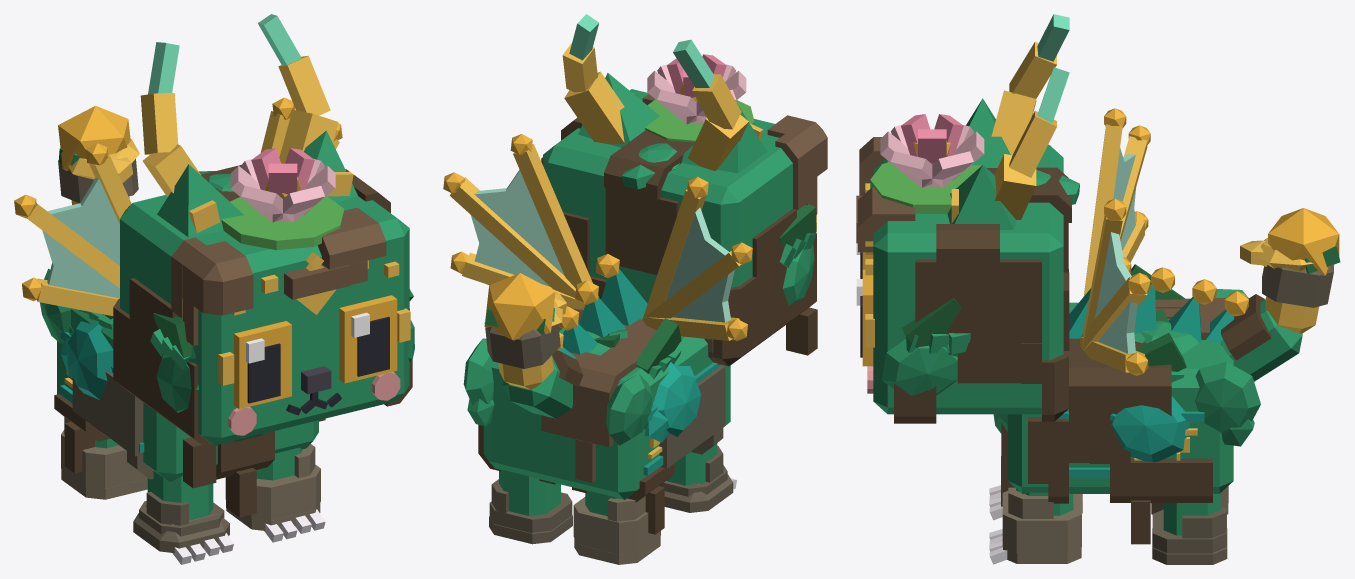
The model's file is CleanACat_Cat_Jade_Dirty.fbx.
The picture shows the model from 3 angles, left to right: view 1: azimuth 30°, elevation 25°; view 2: azimuth 150°, elevation 25°; view 3: azimuth 270°, elevation 25°; orthographic projection. The views are drawn at different scales.
Visible parts, largest first — view 1: CleanACat_Cat_Jade_Dirty_Head, CleanACat_Cat_Jade_Dirty_Prop, CleanACat_Cat_Jade_Dirty_Prop2, CleanACat_Cat_Jade_Dirty_Mud01, CleanACat_Cat_Jade_Dirty_Mud06, CleanACat_Cat_Jade_Dirty_Mud03, CleanACat_Cat_Jade_Dirty_Body, CleanACat_Cat_Jade_Dirty_Eye1, CleanACat_Cat_Jade_Dirty_Eye2, CleanACat_Cat_Jade_Dirty_Mud15, CleanACat_Cat_Jade_Dirty_Mud10, CleanACat_Cat_Jade_Dirty_Mud16 (+17 smaller); view 2: CleanACat_Cat_Jade_Dirty_Prop2, CleanACat_Cat_Jade_Dirty_Head, CleanACat_Cat_Jade_Dirty_Prop, CleanACat_Cat_Jade_Dirty_Body, CleanACat_Cat_Jade_Dirty_Mud01, CleanACat_Cat_Jade_Dirty_Mud04, CleanACat_Cat_Jade_Dirty_Mud09, CleanACat_Cat_Jade_Dirty_Mud18, CleanACat_Cat_Jade_Dirty_Tail_Pearl_Glow, CleanACat_Cat_Jade_Dirty_Mud06, CleanACat_Cat_Jade_Dirty_Mud10, CleanACat_Cat_Jade_Dirty_Tail (+22 smaller); view 3: CleanACat_Cat_Jade_Dirty_Head, CleanACat_Cat_Jade_Dirty_Mud02, CleanACat_Cat_Jade_Dirty_Prop, CleanACat_Cat_Jade_Dirty_Prop2, CleanACat_Cat_Jade_Dirty_Mud08, CleanACat_Cat_Jade_Dirty_Body, CleanACat_Cat_Jade_Dirty_Mud11, CleanACat_Cat_Jade_Dirty_Mud15, CleanACat_Cat_Jade_Dirty_Fluff09, CleanACat_Cat_Jade_Dirty_Mud17, CleanACat_Cat_Jade_Dirty_Fluff05, CleanACat_Cat_Jade_Dirty_Tail (+21 smaller).
Boxes of the visible parts, x1=… form: CleanACat_Cat_Jade_Dirty_Head: x1=120, y1=195, x2=410, y2=445; CleanACat_Cat_Jade_Dirty_Prop: x1=140, y1=55, x2=344, y2=250; CleanACat_Cat_Jade_Dirty_Prop2: x1=25, y1=111, x2=339, y2=315; CleanACat_Cat_Jade_Dirty_Mud01: x1=113, y1=278, x2=216, y2=488; CleanACat_Cat_Jade_Dirty_Mud06: x1=171, y1=237, x2=253, y2=345; CleanACat_Cat_Jade_Dirty_Mud03: x1=284, y1=207, x2=386, y2=299; CleanACat_Cat_Jade_Dirty_Body: x1=57, y1=308, x2=318, y2=481; CleanACat_Cat_Jade_Dirty_Eye1: x1=339, y1=295, x2=397, y2=383; CleanACat_Cat_Jade_Dirty_Eye2: x1=234, y1=321, x2=291, y2=409; CleanACat_Cat_Jade_Dirty_Mud15: x1=225, y1=444, x2=320, y2=530; CleanACat_Cat_Jade_Dirty_Mud10: x1=72, y1=372, x2=153, y2=479; CleanACat_Cat_Jade_Dirty_Mud16: x1=133, y1=492, x2=229, y2=552; CleanACat_Cat_Jade_Dirty_Prop2: x1=450, y1=144, x2=741, y2=358; CleanACat_Cat_Jade_Dirty_Head: x1=543, y1=89, x2=816, y2=303; CleanACat_Cat_Jade_Dirty_Prop: x1=562, y1=43, x2=754, y2=170; CleanACat_Cat_Jade_Dirty_Body: x1=483, y1=336, x2=730, y2=499; CleanACat_Cat_Jade_Dirty_Mud01: x1=708, y1=209, x2=817, y2=366; CleanACat_Cat_Jade_Dirty_Mud04: x1=604, y1=130, x2=694, y2=274; CleanACat_Cat_Jade_Dirty_Mud09: x1=541, y1=342, x2=634, y2=482; CleanACat_Cat_Jade_Dirty_Mud18: x1=573, y1=496, x2=660, y2=564; CleanACat_Cat_Jade_Dirty_Tail_Pearl_Glow: x1=484, y1=273, x2=555, y2=340; CleanACat_Cat_Jade_Dirty_Mud06: x1=767, y1=115, x2=827, y2=214; CleanACat_Cat_Jade_Dirty_Mud10: x1=659, y1=338, x2=725, y2=468; CleanACat_Cat_Jade_Dirty_Tail: x1=498, y1=355, x2=572, y2=418; CleanACat_Cat_Jade_Dirty_Head: x1=865, y1=144, x2=1063, y2=414; CleanACat_Cat_Jade_Dirty_Mud02: x1=894, y1=224, x2=1041, y2=423; CleanACat_Cat_Jade_Dirty_Prop: x1=870, y1=41, x2=1056, y2=219; CleanACat_Cat_Jade_Dirty_Prop2: x1=1069, y1=124, x2=1234, y2=372; CleanACat_Cat_Jade_Dirty_Mud08: x1=1069, y1=338, x2=1171, y2=463; CleanACat_Cat_Jade_Dirty_Body: x1=1007, y1=302, x2=1233, y2=493; CleanACat_Cat_Jade_Dirty_Mud11: x1=1110, y1=458, x2=1212, y2=544; CleanACat_Cat_Jade_Dirty_Mud15: x1=1002, y1=487, x2=1081, y2=563; CleanACat_Cat_Jade_Dirty_Fluff09: x1=1195, y1=361, x2=1260, y2=446; CleanACat_Cat_Jade_Dirty_Mud17: x1=1152, y1=507, x2=1227, y2=564; CleanACat_Cat_Jade_Dirty_Fluff05: x1=1110, y1=396, x2=1190, y2=462; CleanACat_Cat_Jade_Dirty_Tail: x1=1221, y1=296, x2=1319, y2=381.
Bounding box in the file's own units: 1.56 × 2.28 × 2.03.
Materials: 1 (1 with a texture image).
